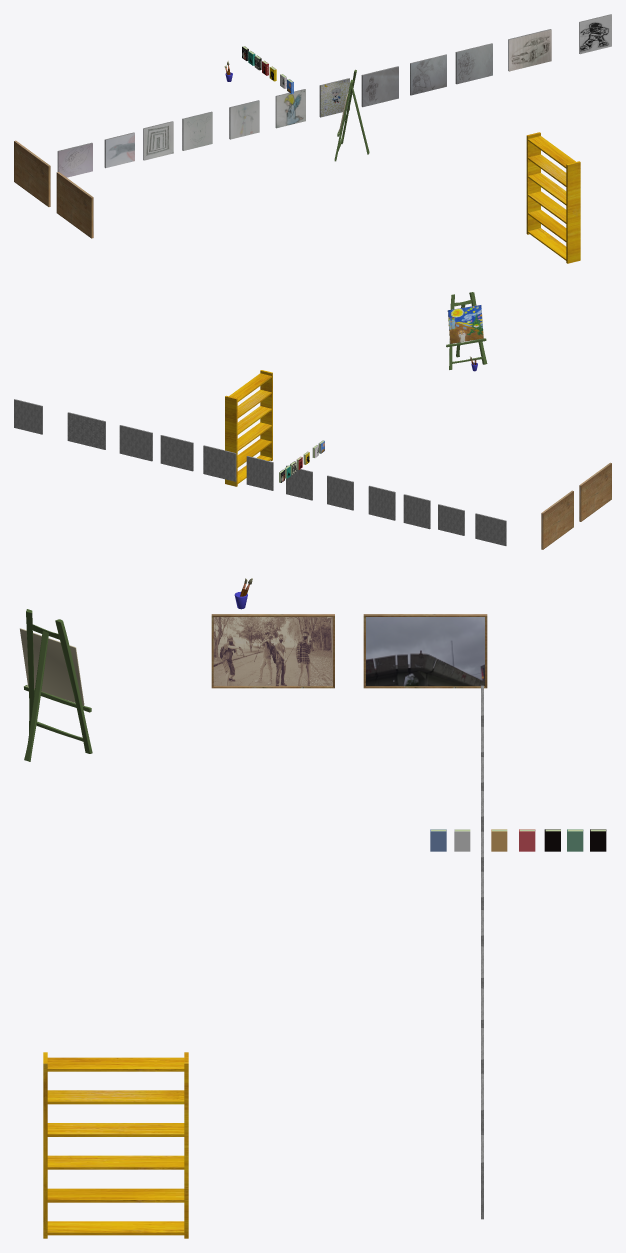
File: Itens_Complementos.fbx
3 renders of one model, top to bottom at view 1: azimuth 30°, elevation 25°; view 2: azimuth 150°, elevation 25°; view 3: azimuth 270°, elevation 25°, orthographic. The views are drawn at different scales.
Parts seen in each view (by area): view 1: Estante, Cube, Cube.001, Pintura.010, Pintura.009, Pintura.007, Pintura.008, Pintura.011, Pintura.002, Pintura.004, Pintura.003, Pintura.005 (+4 smaller); view 2: Estante, Easel, Cube.001, Cube, Pintura.010, Pintura.007, Pintura.009, Pintura.008, Pintura.011, Pintura, Pintura.006, Pintura.003 (+4 smaller); view 3: Estante, Cube.001, Cube, Easel.
Boxes of the visible parts, left/top/right/bottom form: Estante: left=526, top=132, right=580, bottom=263; Cube: left=56, top=172, right=93, bottom=238; Cube.001: left=14, top=140, right=50, bottom=206; Pintura.010: left=508, top=29, right=551, bottom=71; Pintura.009: left=455, top=43, right=492, bottom=84; Pintura.007: left=361, top=66, right=398, bottom=107; Pintura.008: left=410, top=54, right=446, bottom=95; Pintura.011: left=579, top=14, right=611, bottom=54; Pintura.002: left=143, top=121, right=173, bottom=160; Pintura.004: left=229, top=100, right=259, bottom=139; Pintura.003: left=182, top=111, right=212, bottom=150; Pintura.005: left=275, top=89, right=305, bottom=128; Estante: left=225, top=370, right=272, bottom=486; Easel: left=446, top=292, right=487, bottom=369; Cube.001: left=541, top=490, right=573, bottom=549; Cube: left=579, top=462, right=611, bottom=521; Pintura.010: left=67, top=412, right=105, bottom=449; Pintura.007: left=203, top=445, right=236, bottom=481; Pintura.009: left=119, top=425, right=152, bottom=461; Pintura.008: left=160, top=435, right=193, bottom=471; Pintura.011: left=14, top=399, right=42, bottom=434; Pintura: left=475, top=513, right=506, bottom=545; Pintura.006: left=246, top=456, right=273, bottom=490; Pintura.003: left=368, top=485, right=395, bottom=520; Estante: left=43, top=1052, right=188, bottom=1238; Cube.001: left=363, top=614, right=487, bottom=688; Cube: left=211, top=614, right=334, bottom=688; Easel: left=20, top=609, right=92, bottom=761.
Bounding box in the file's own units: 1267 × 488 × 607.
